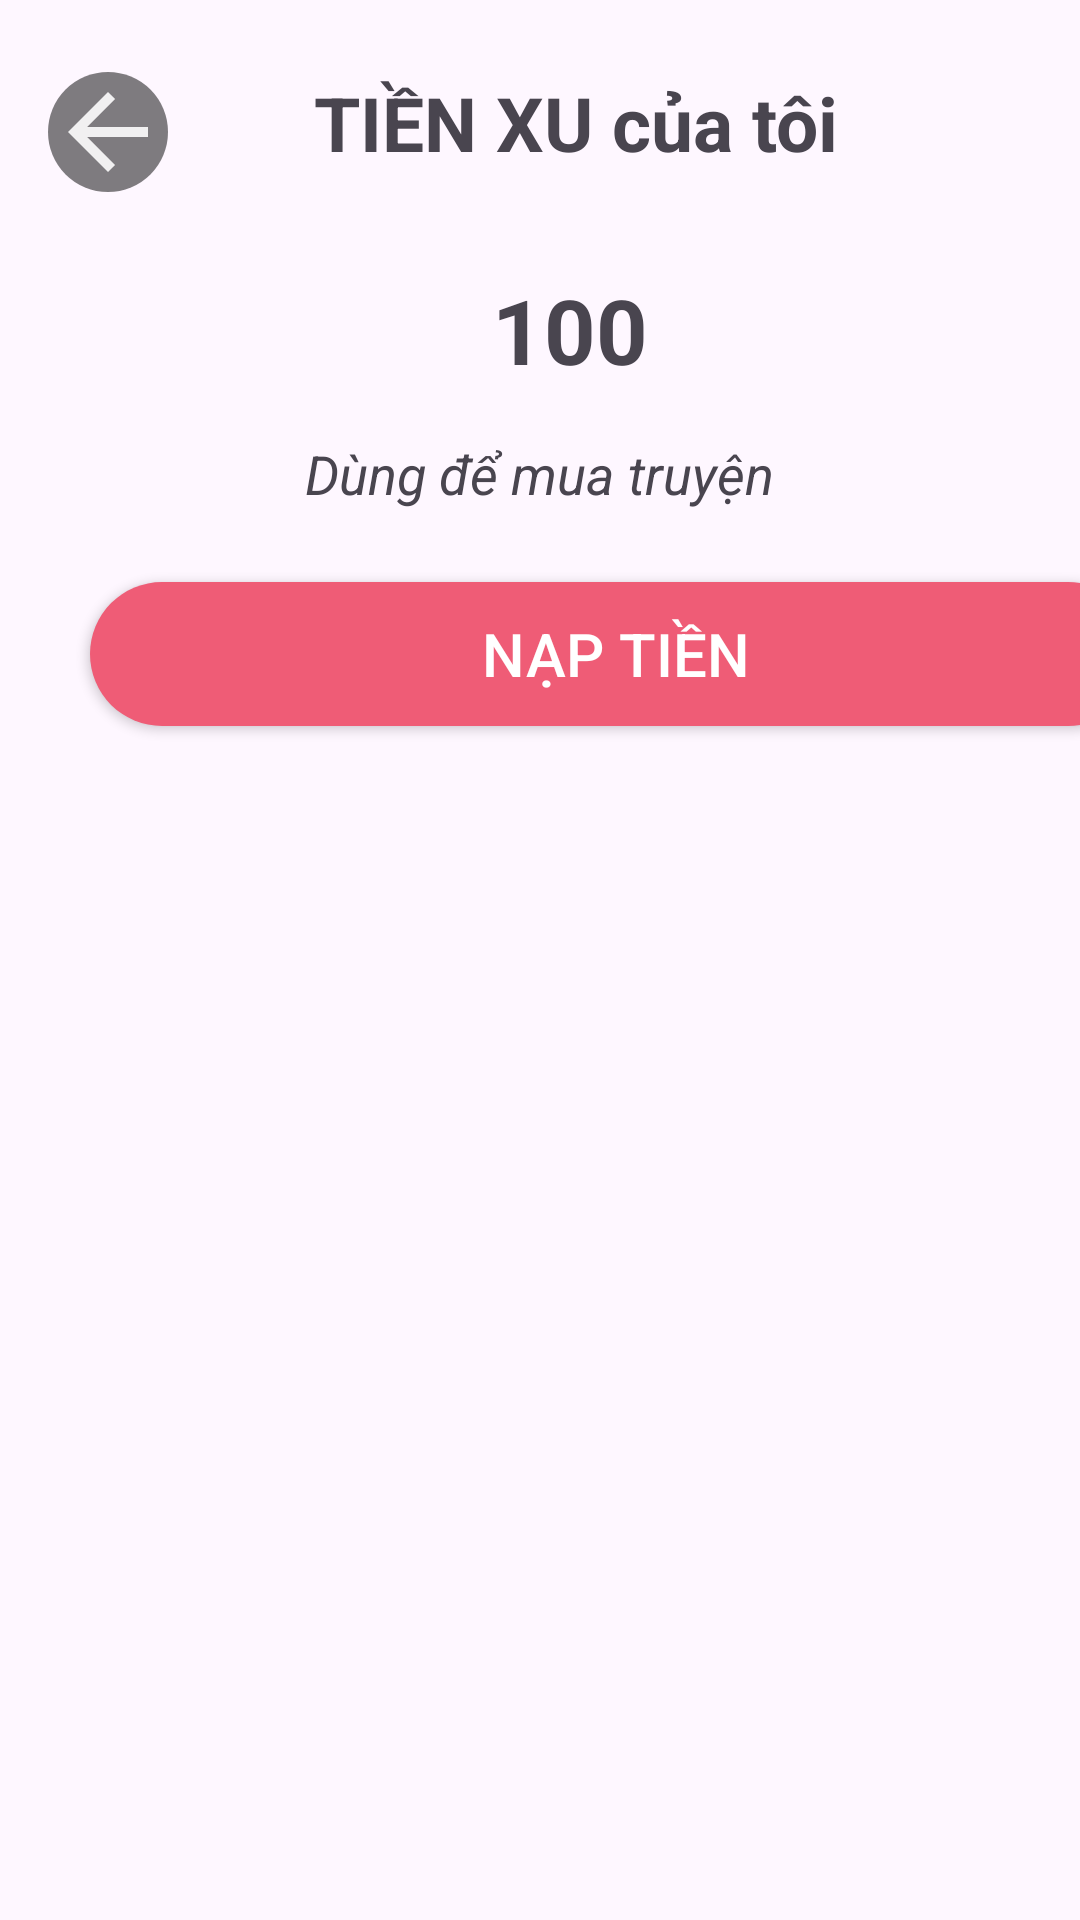

Icons on this 1080*1920 Android screen, each with its box as bbox=(x1, y1, x2, y2):
back: bbox=(48, 72, 168, 192)
